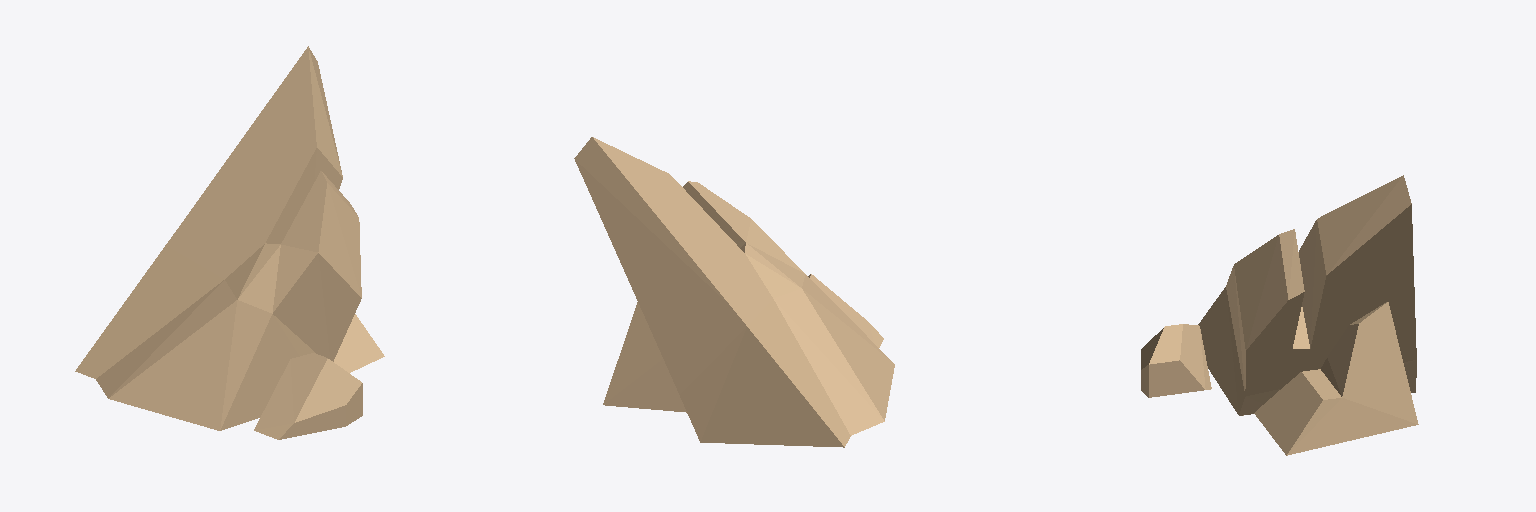
The model's file is rock_sharp__1_.obj.
3 renders of one model, left to right at view 1: azimuth 30°, elevation 25°; view 2: azimuth 150°, elevation 25°; view 3: azimuth 270°, elevation 25°, orthographic.
Visible parts, largest first — view 1: rock_sharp__1__Scene.017; view 2: rock_sharp__1__Scene.017; view 3: rock_sharp__1__Scene.017.
Boxes of the visible parts, x1,y1,x2,y2 form: rock_sharp__1__Scene.017: [75, 46, 384, 439]; rock_sharp__1__Scene.017: [574, 137, 894, 447]; rock_sharp__1__Scene.017: [1141, 175, 1418, 455].
Size of the model in its own units: 2.02 by 1.99 by 1.83.